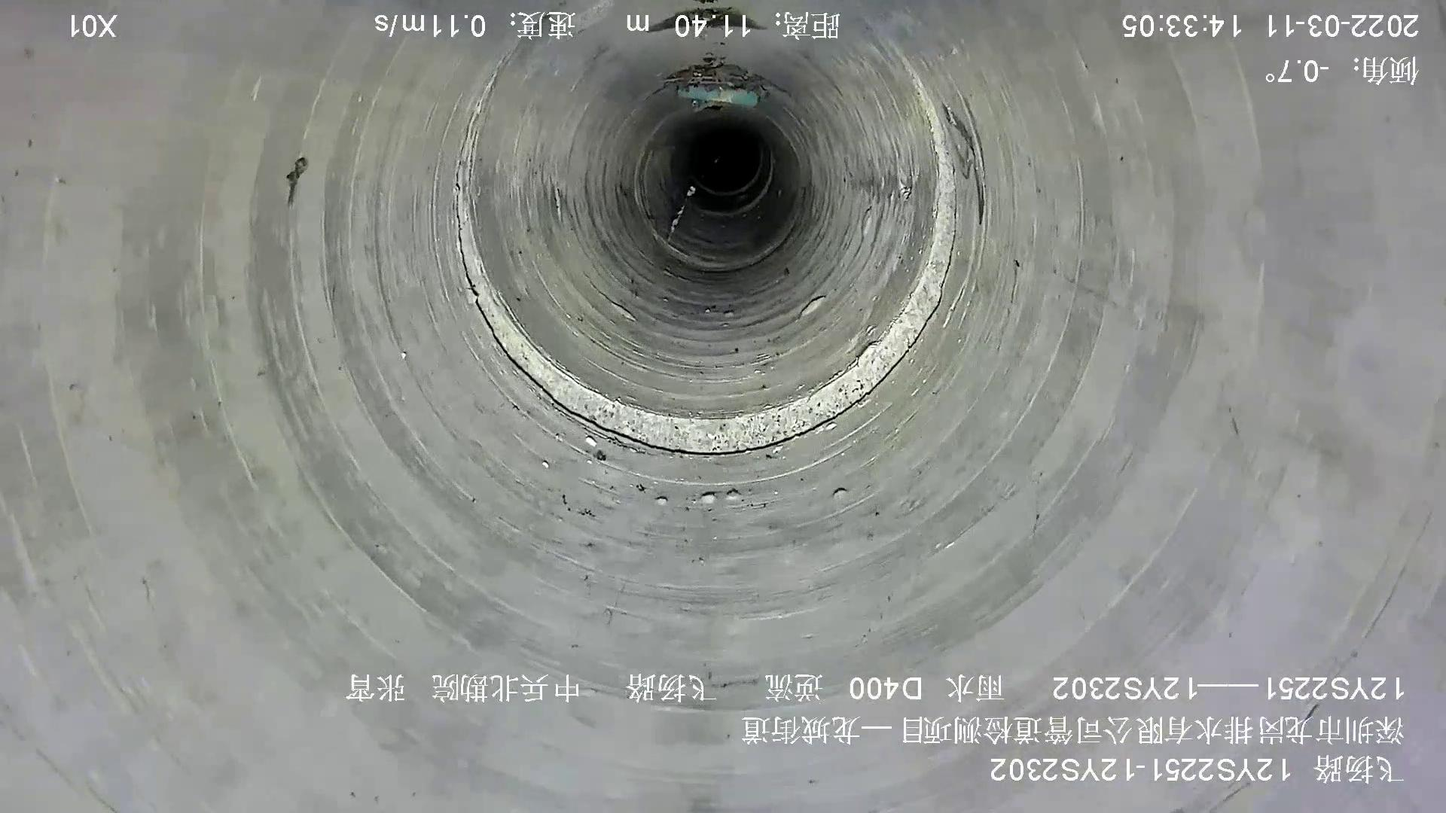CJ: (678, 68, 766, 110)
CKTJ: (453, 78, 957, 456)
